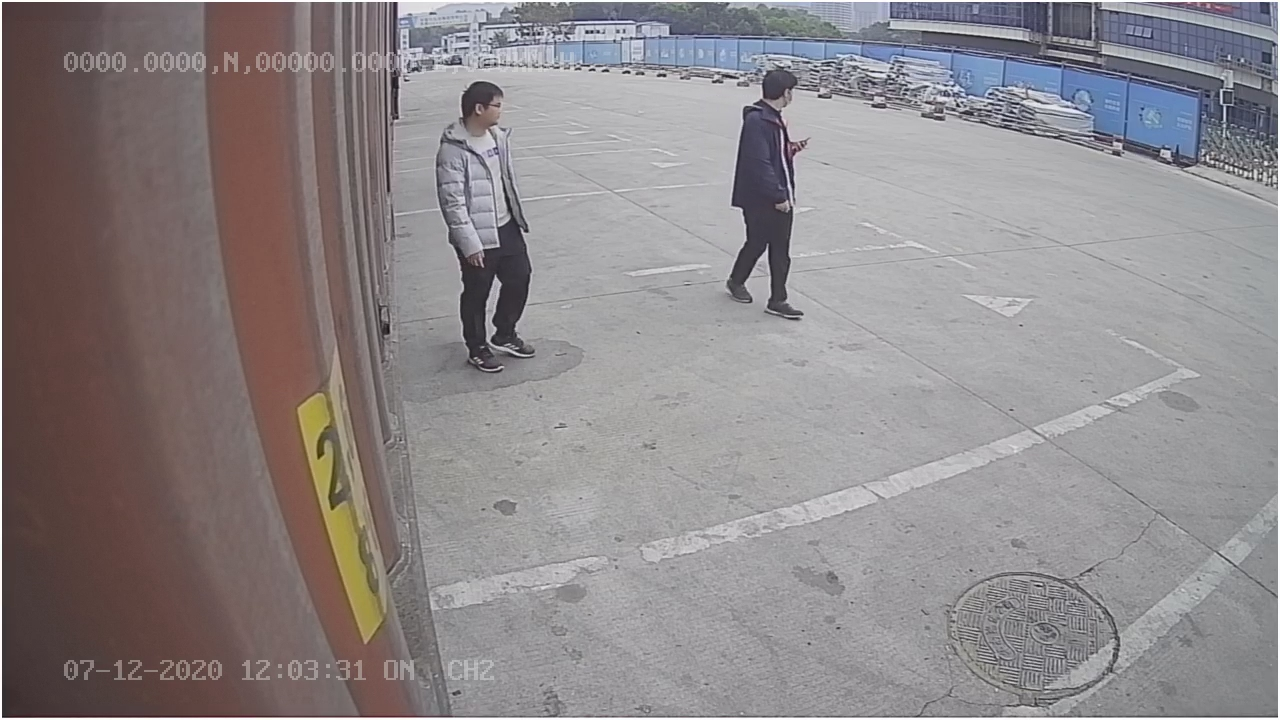person: (429, 79, 541, 370), (724, 66, 819, 320)
